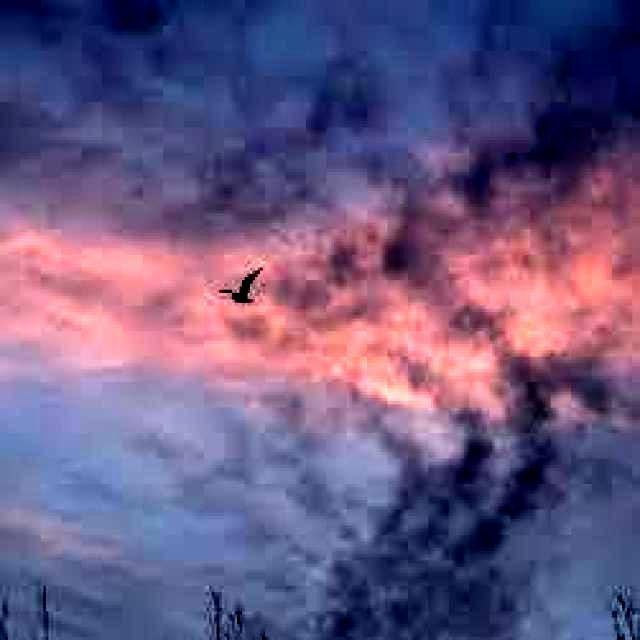bird: (222, 264, 266, 304)
